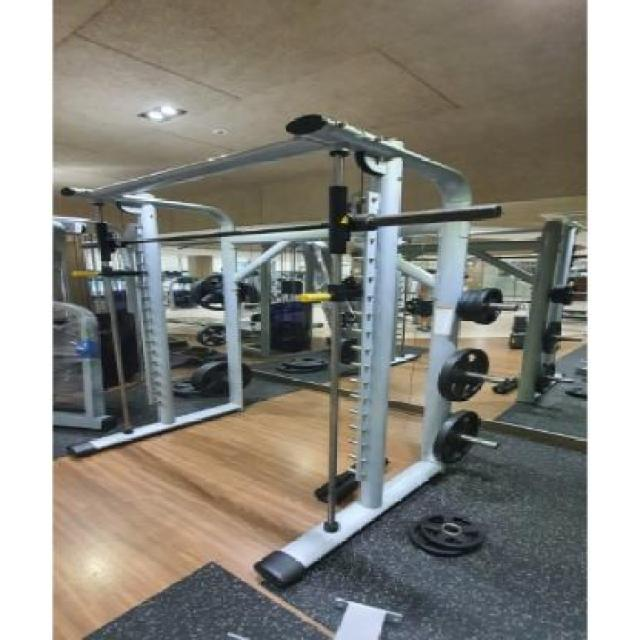smith machine: (61, 117, 478, 588)
